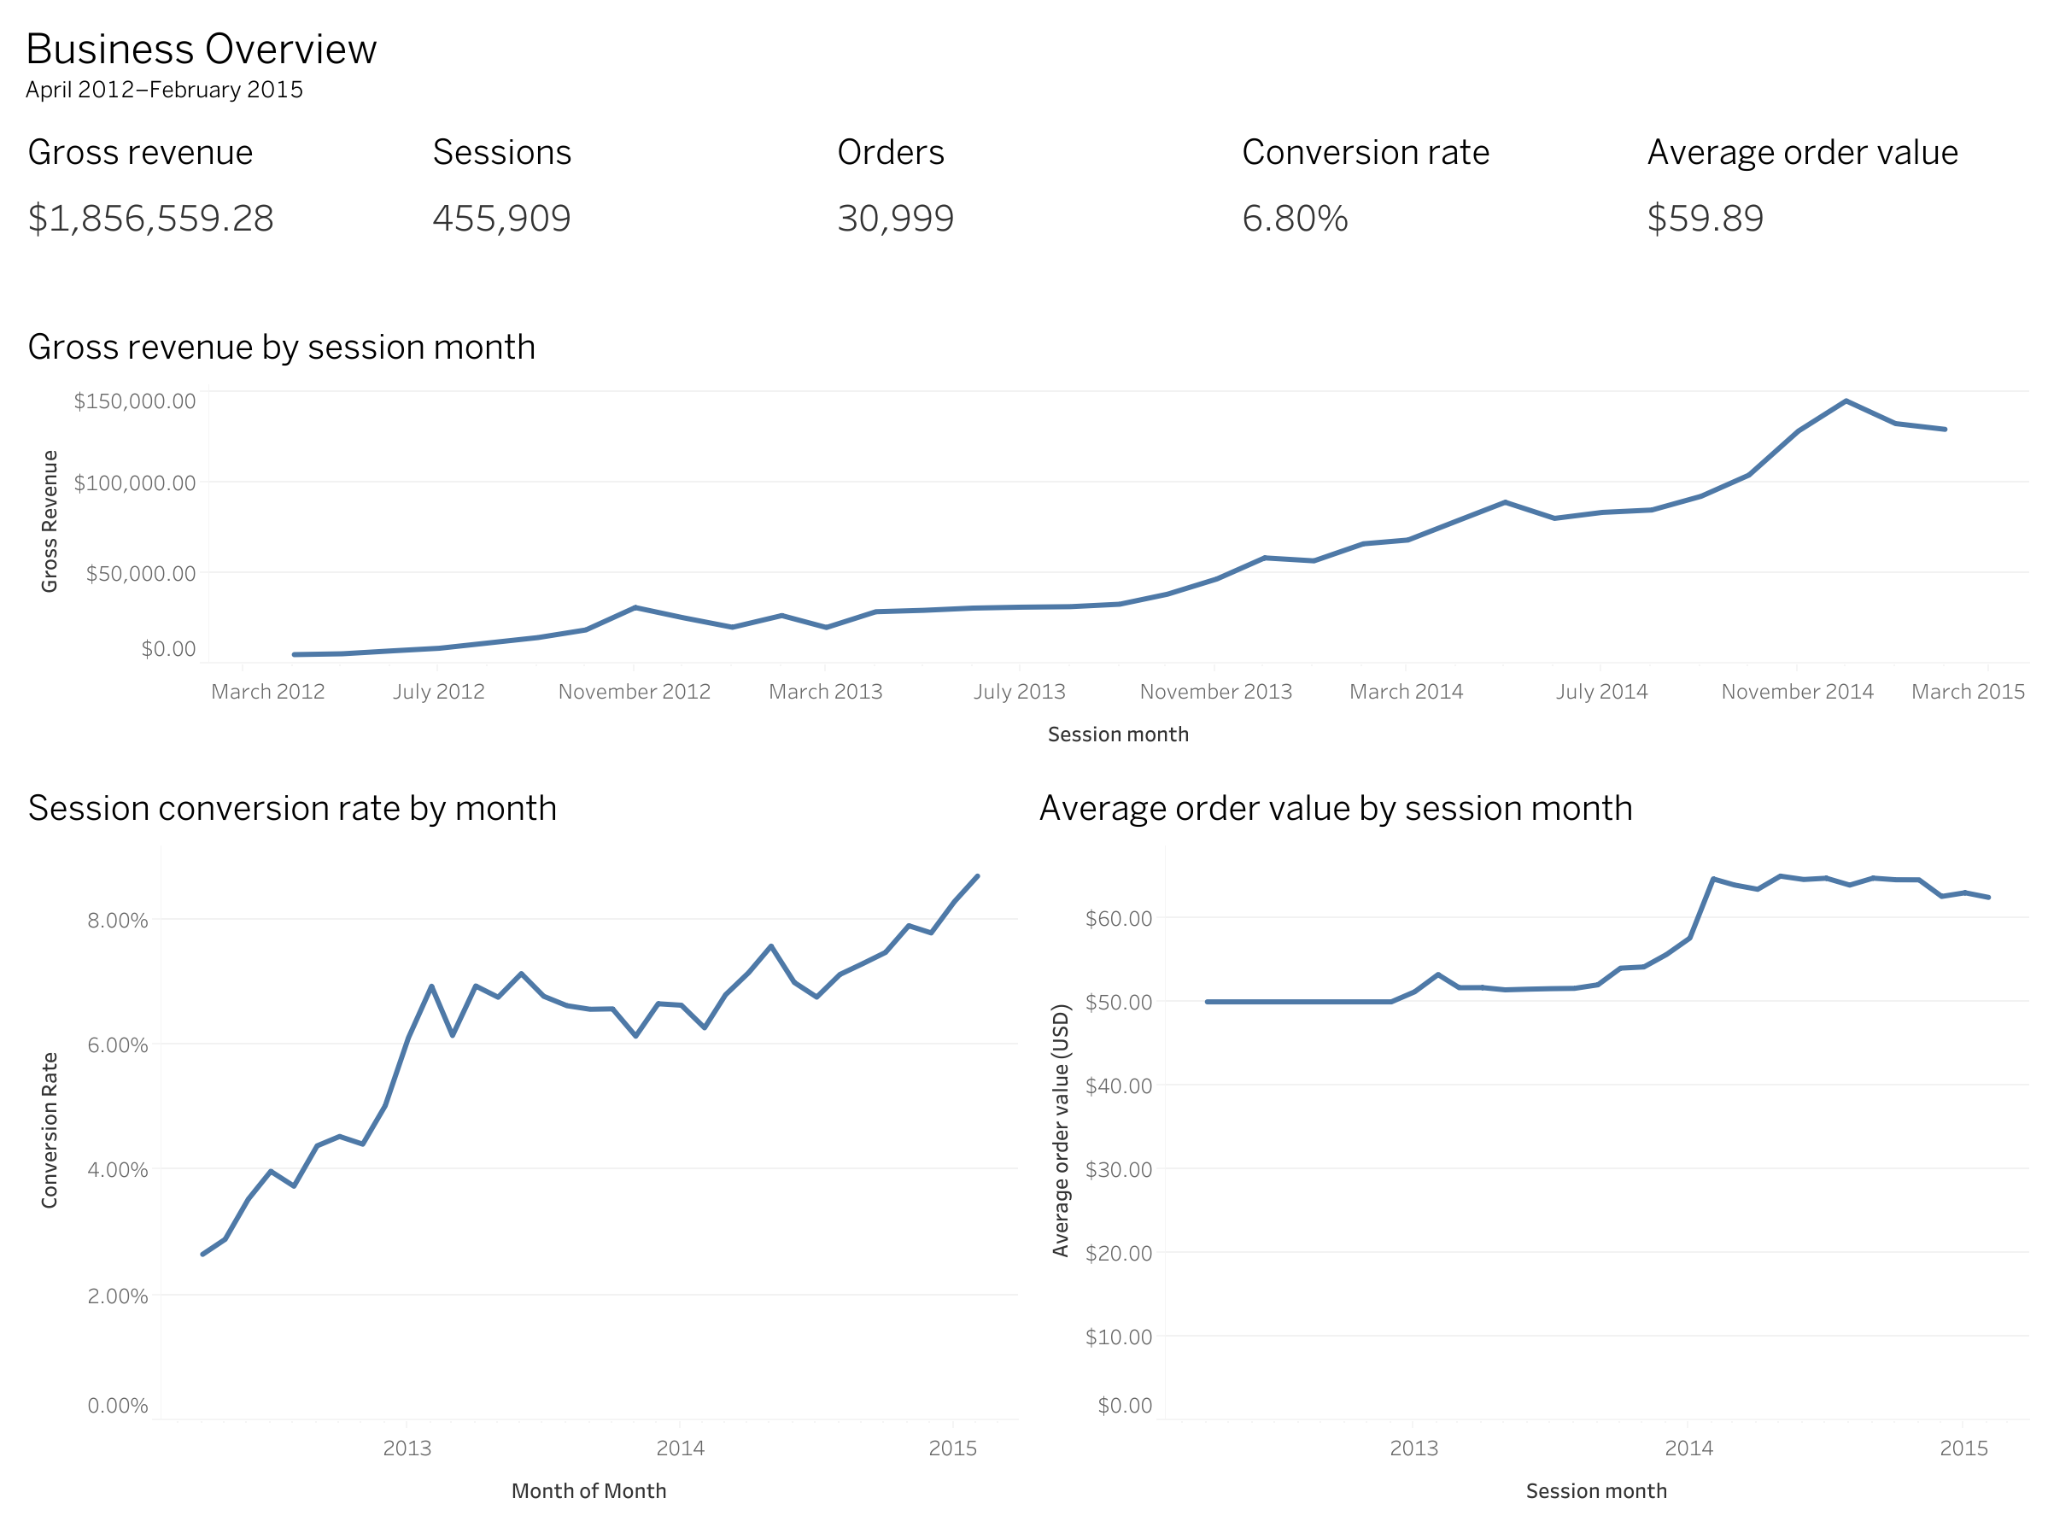

This screenshot's page, from the dashboard's own definition file:
{"tool":"tableau","page":{"name":"Business Overview","canvas":[1200,900],"ordinal":1},"visuals":[{"type":"title","box":[8,8,1184,56]},{"type":"worksheet","title":"KPI Revenue","mark":"Text","box":[8,64,237,115]},{"type":"worksheet","title":"KPI Sessions","mark":"Text","box":[245,64,237,115]},{"type":"worksheet","title":"KPI Orders","mark":"Text","box":[482,64,237,115]},{"type":"worksheet","title":"KPI Conversion","mark":"Text","box":[719,64,237,115]},{"type":"worksheet","title":"KPI AOV","mark":"Text","box":[956,64,236,115]},{"type":"worksheet","title":"Monthly Revenue","mark":"Line","rows":["gross_revenue"],"cols":["month"],"box":[8,179.5,1184,269.5]},{"type":"worksheet","title":"Monthly Conversion","mark":"Line","rows":["Calculation_1583930109376339968"],"cols":["month"],"box":[8,449,592,443]},{"type":"worksheet","title":"Monthly AOV","mark":"Line","rows":["Calculation_2938387697993605120"],"cols":["month"],"box":[600,449,592,443]}]}

Visuals, with their boxes in screenshot pixels (x1, y1, x2, y2), scaled from the page's 1200x900 canvas onto the 2048x1535 screenshot:
title: box=[14, 14, 2034, 109]
"KPI Revenue" worksheet (Text marks): box=[14, 109, 418, 305]
"KPI Sessions" worksheet (Text marks): box=[418, 109, 823, 305]
"KPI Orders" worksheet (Text marks): box=[823, 109, 1227, 305]
"KPI Conversion" worksheet (Text marks): box=[1227, 109, 1632, 305]
"KPI AOV" worksheet (Text marks): box=[1632, 109, 2034, 305]
"Monthly Revenue" worksheet (Line marks): box=[14, 306, 2034, 766]
"Monthly Conversion" worksheet (Line marks): box=[14, 766, 1024, 1521]
"Monthly AOV" worksheet (Line marks): box=[1024, 766, 2034, 1521]
